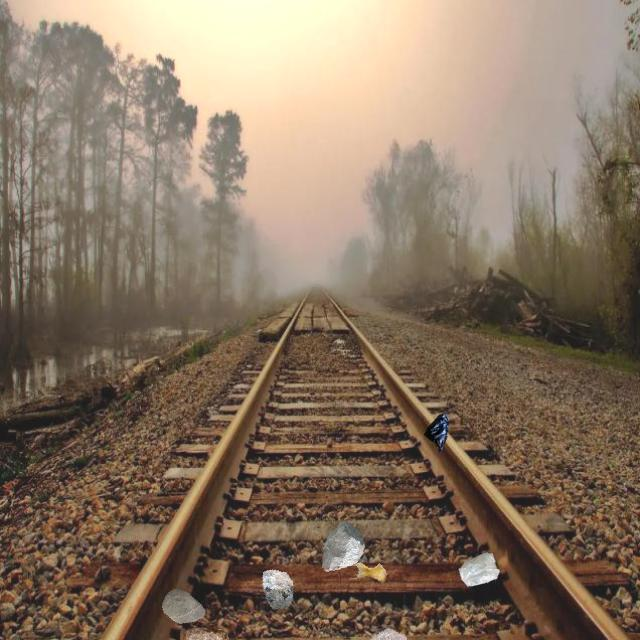0 plastic_garbage_on_track: (457, 552, 499, 587), (424, 412, 450, 453), (349, 560, 387, 583)
1 stone_on_track: (322, 520, 366, 572), (162, 588, 205, 623), (262, 569, 294, 609), (185, 626, 229, 640), (369, 628, 407, 640)
4 track: (101, 339, 630, 639)
